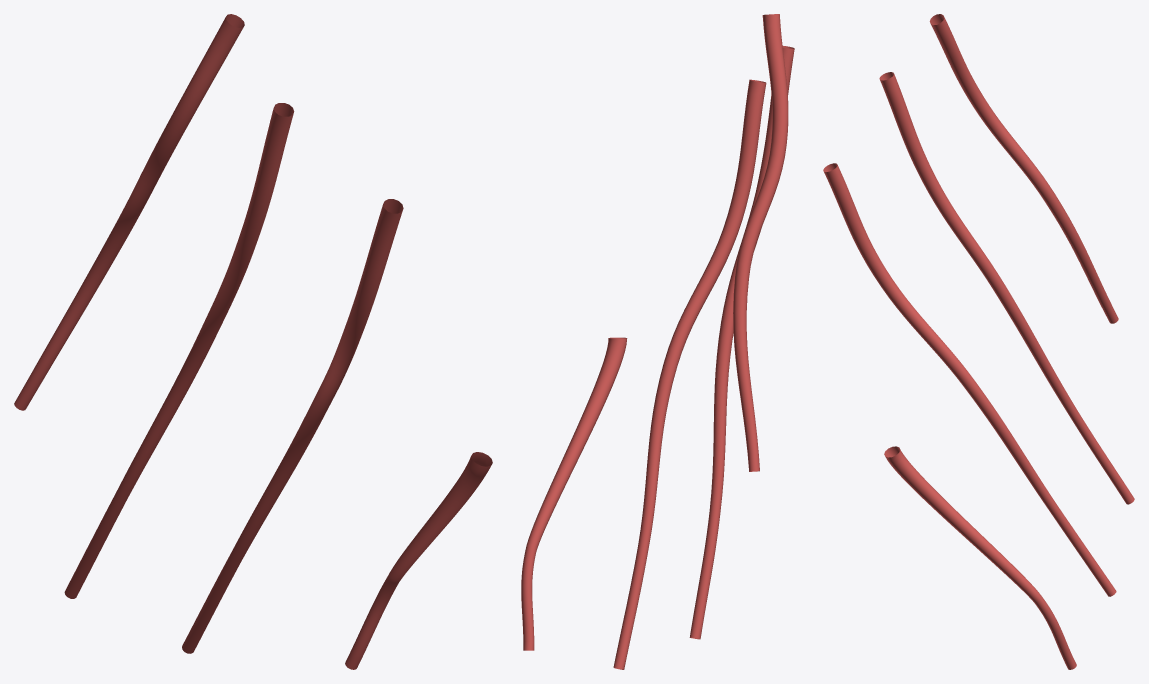
3 renders of one model, left to right at view 1: azimuth 30°, elevation 25°; view 2: azimuth 150°, elevation 25°; view 3: azimuth 270°, elevation 25°, orthographic. The views are drawn at different scales.
Visible parts, largest first — view 1: 右侧跖背动脉; view 2: 右侧跖背动脉; view 3: 右侧跖背动脉.
Part boxes in pixels (x1,y1,x2,y2): 右侧跖背动脉: [14, 14, 492, 669]; 右侧跖背动脉: [521, 14, 794, 669]; 右侧跖背动脉: [823, 14, 1134, 669].
Bounding box in the file's own units: 0.0596 × 0.1303 × 0.0638.
